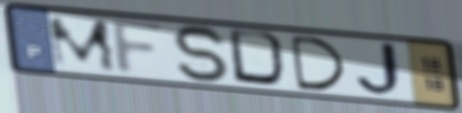D: (226, 27, 294, 90), (287, 33, 350, 93)
F: (109, 18, 170, 78)
J: (353, 41, 410, 98)
M: (44, 15, 121, 74)
S: (169, 24, 234, 85)
